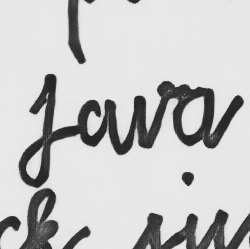a: (170, 85, 220, 149), (76, 97, 118, 148)
j: (15, 69, 60, 189)
v: (130, 86, 170, 151)
